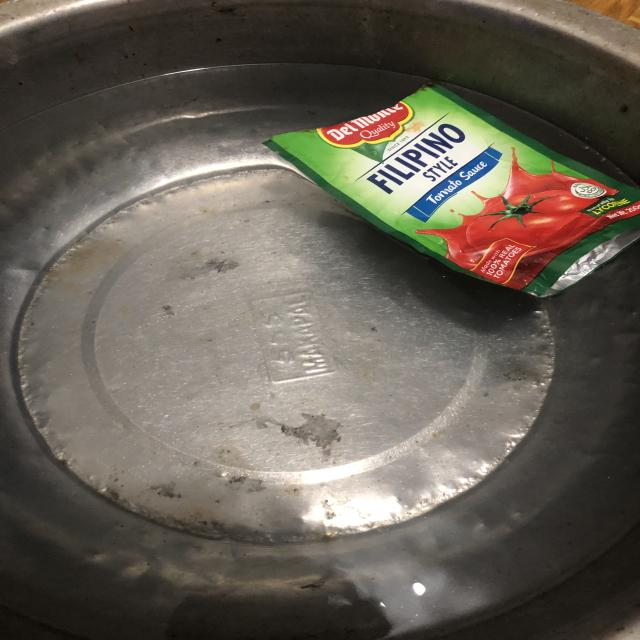Plastic Pouch: (250, 83, 634, 305)
